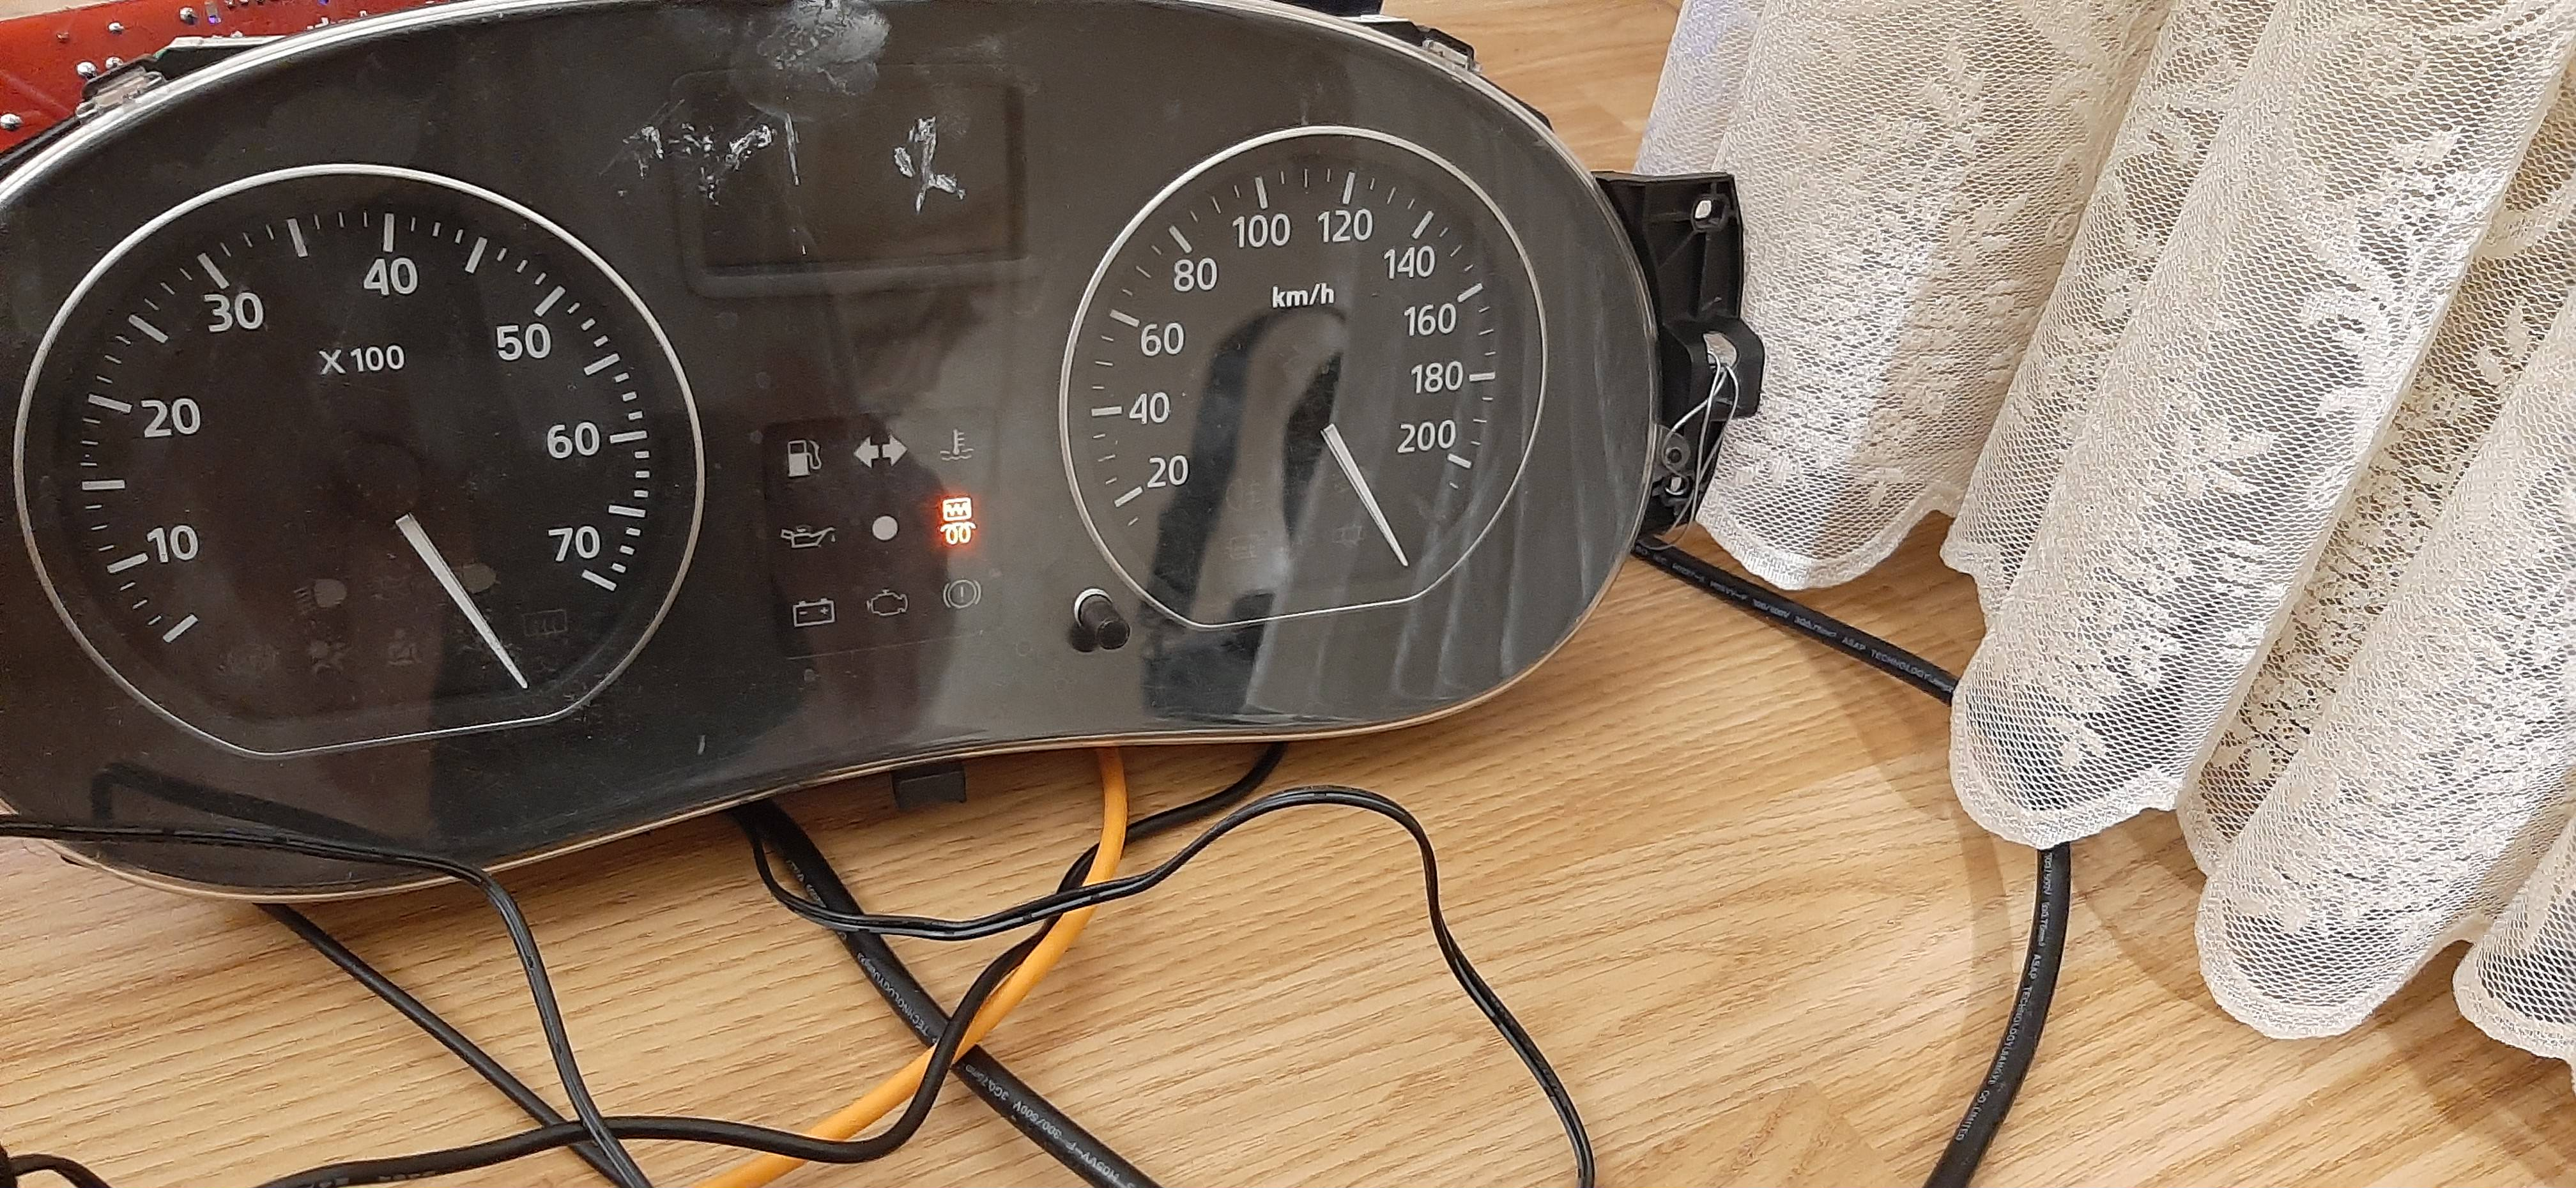diesel18: (936, 496, 977, 546)
